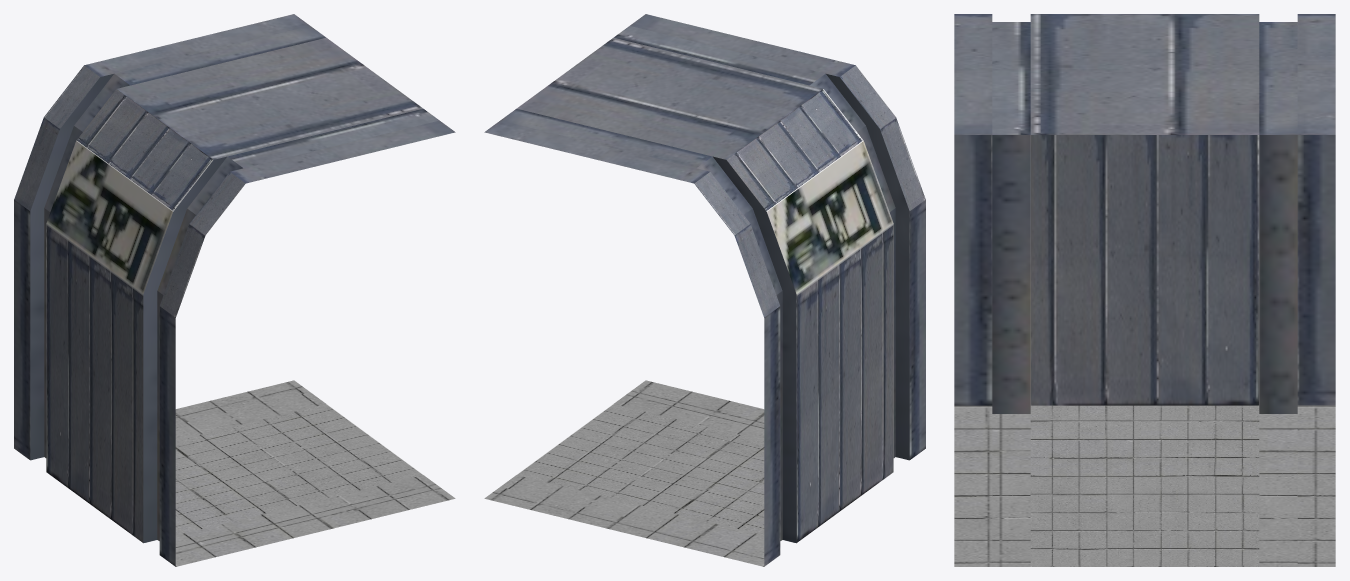
The model's file is room_wall.fbx.
3 renders of one model, left to right at view 1: azimuth 30°, elevation 25°; view 2: azimuth 150°, elevation 25°; view 3: azimuth 270°, elevation 25°, orthographic. The views are drawn at different scales.
Parts seen in each view (by area): view 1: Plane; view 2: Plane; view 3: Plane.
Part boxes in pixels (box(x1,y1,x2,y2)): Plane: box(14, 14, 455, 566); Plane: box(484, 14, 925, 566); Plane: box(954, 14, 1335, 566).
Size of the model in its own units: 200 by 250 by 200.
